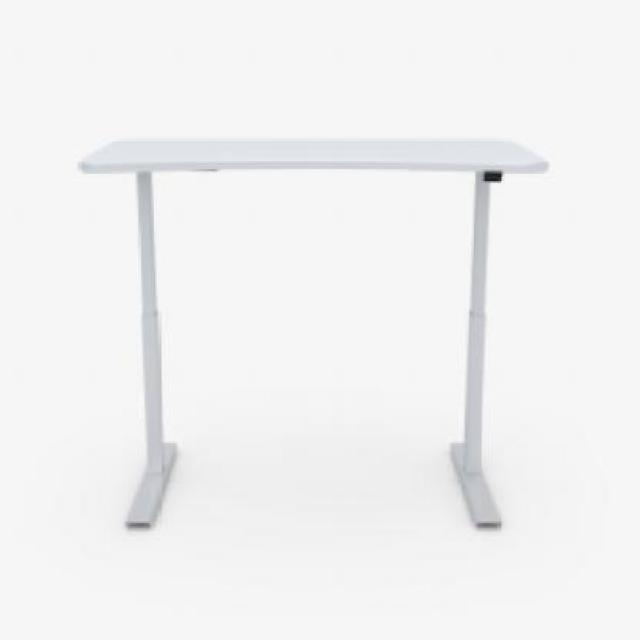table: (74, 134, 549, 548)
